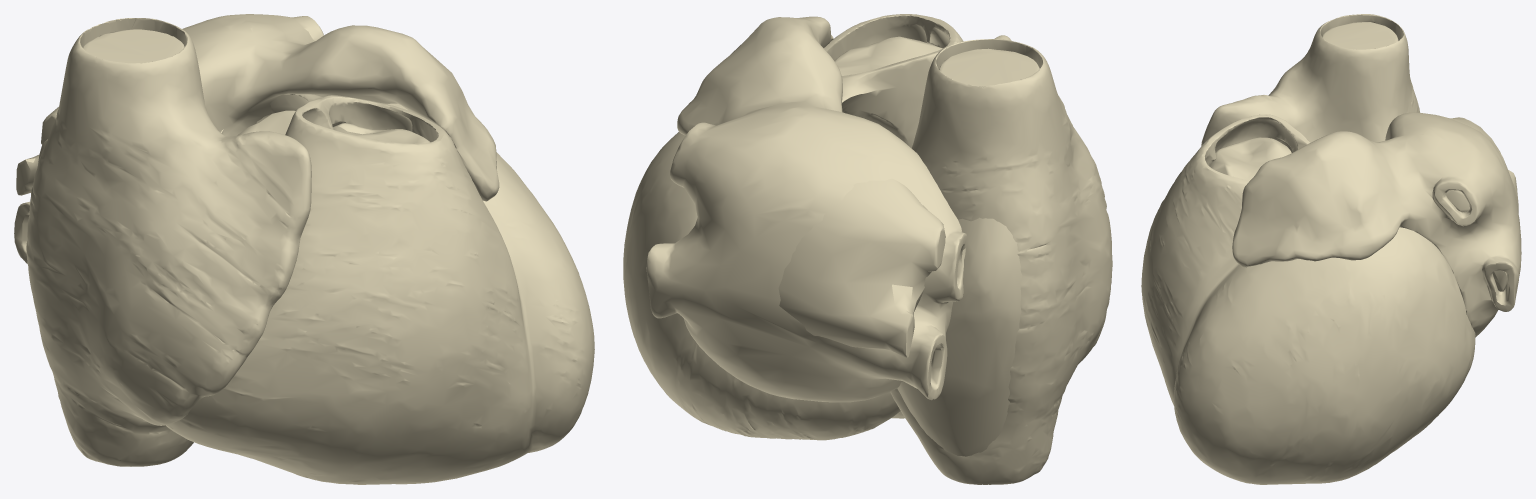
File: bodyparts3d-heart-external.glb
3 renders of one model, left to right at view 1: azimuth 30°, elevation 25°; view 2: azimuth 150°, elevation 25°; view 3: azimuth 270°, elevation 25°, orthographic. The views are drawn at different scales.
Parts seen in each view (by area): view 1: cardiac-fma86212, cardiac-fma9457, cardiac-fma9531, cardiac-fma11359, cardiac-fma9291, cardiac-fma9465, cardiac-fma9466; view 2: cardiac-fma9531, cardiac-fma9457, cardiac-fma86212, cardiac-fma9465, cardiac-fma11359, cardiac-fma9291; view 3: cardiac-fma86212, cardiac-fma9531, cardiac-fma9457, cardiac-fma9291, cardiac-fma11359, cardiac-fma9465.
Part boxes in pixels (x1,y1,x2,y2): cardiac-fma86212: (166,94,594,484); cardiac-fma9457: (26,18,311,466); cardiac-fma9531: (14,14,499,263); cardiac-fma11359: (83,29,184,63); cardiac-fma9291: (333,123,430,143); cardiac-fma9465: (16,106,59,195); cardiac-fma9466: (237,110,295,135); cardiac-fma9531: (646,16,967,402); cardiac-fma9457: (890,35,1112,484); cardiac-fma86212: (623,14,963,440); cardiac-fma9465: (778,178,945,357); cardiac-fma11359: (897,48,1039,456); cardiac-fma9291: (834,36,942,75); cardiac-fma86212: (1141,114,1475,484); cardiac-fma9531: (1232,112,1521,337); cardiac-fma9457: (1201,14,1420,145); cardiac-fma9291: (1210,137,1291,180); cardiac-fma11359: (1322,22,1398,49); cardiac-fma9465: (1446,117,1518,291).
Size of the model in its own units: 0.1154 by 0.1053 by 0.1064.
